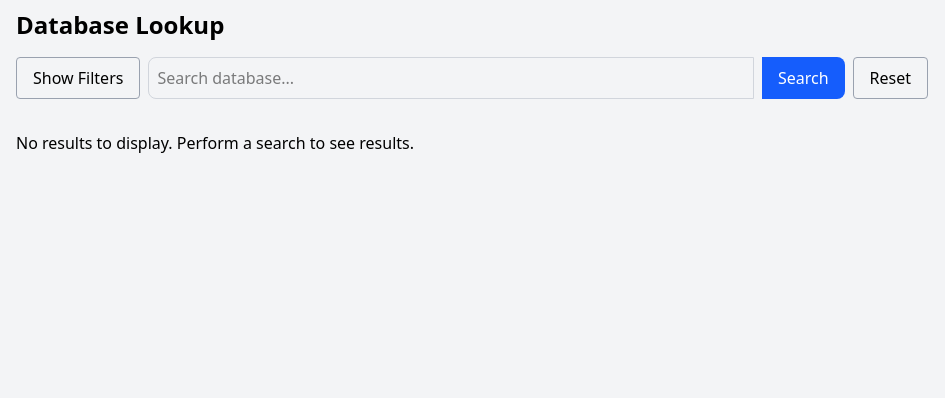
Test: DBLookup Component › toggles filter visibility
Click the button "Show Filters": (78, 78) [16,57,140,99]
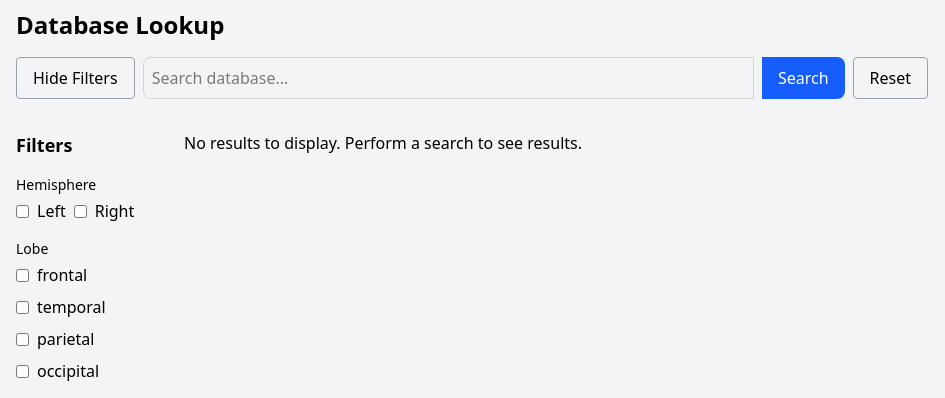
Result: the text "Hemisphere" is shown at [16,175,96,194]
Result: the button "Hide Filters" is shown
Click the button "Hide Filters": (75, 78) [16,57,135,99]
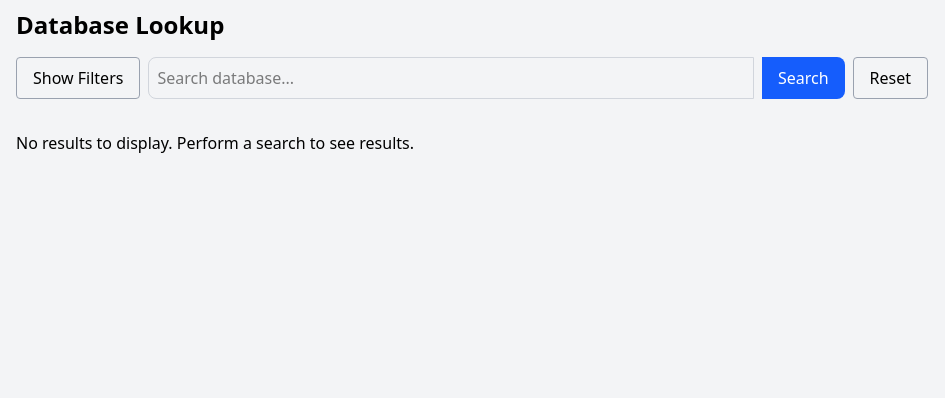
Result: the button "Show Filters" is shown at [16,57,140,99]
